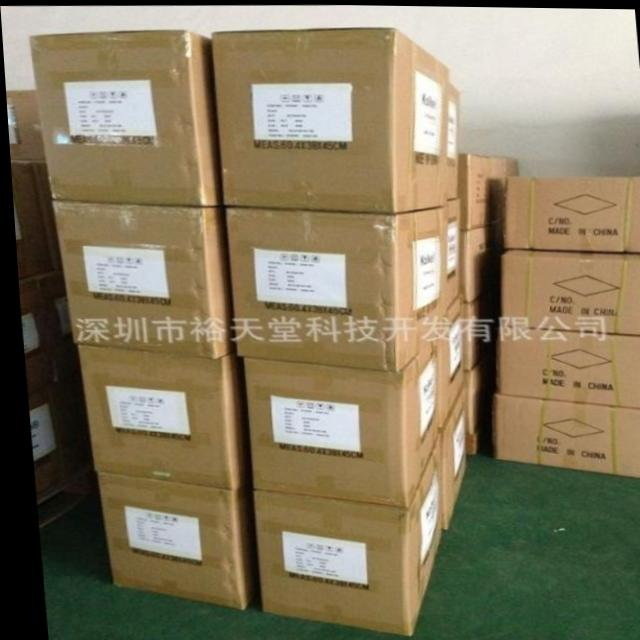box: (209, 25, 448, 212), (247, 427, 435, 636), (222, 204, 447, 370), (238, 330, 435, 506), (29, 31, 217, 205), (49, 200, 231, 358), (73, 344, 237, 490), (89, 469, 245, 609), (484, 391, 640, 475), (491, 321, 640, 406), (495, 246, 640, 333), (502, 174, 640, 252), (22, 372, 84, 497), (15, 271, 75, 392), (8, 158, 57, 278), (427, 297, 462, 431), (457, 153, 516, 228), (434, 378, 462, 529), (454, 219, 502, 301), (5, 89, 43, 161), (440, 198, 456, 316), (454, 297, 473, 369), (447, 82, 458, 198), (459, 367, 473, 452)
